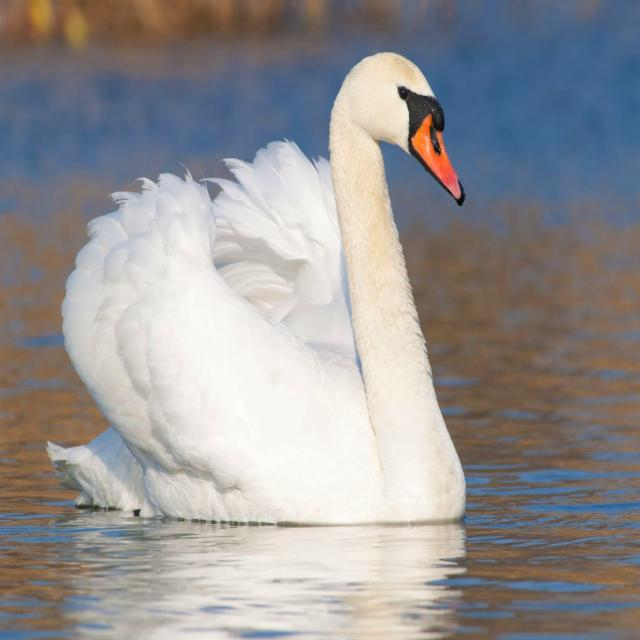swan: (48, 53, 466, 524)
